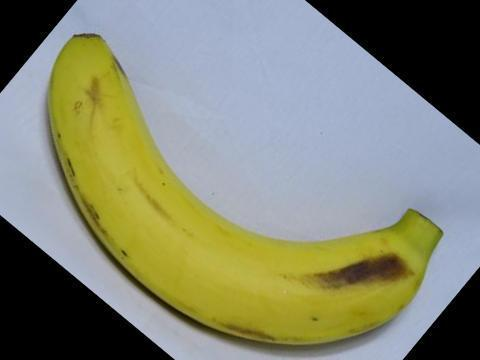freshripe: (32, 19, 446, 359)
